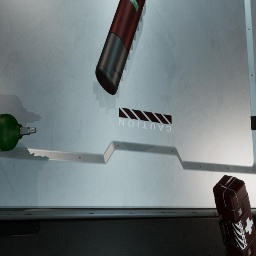0: (0, 114, 38, 152)
FirstAidBox ,: (213, 175, 256, 256)
NitrogenTank ,: (95, 0, 146, 95)
